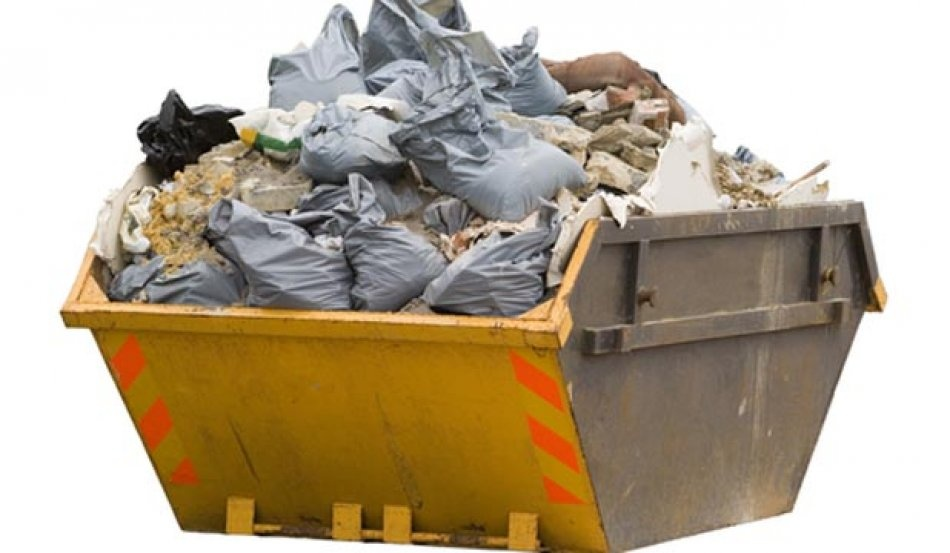rubble: (116, 26, 857, 313)
